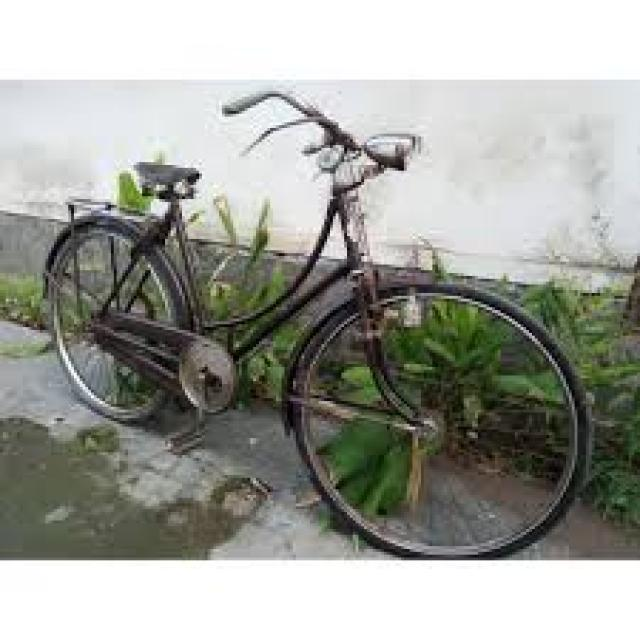bicycle: (40, 96, 579, 561)
